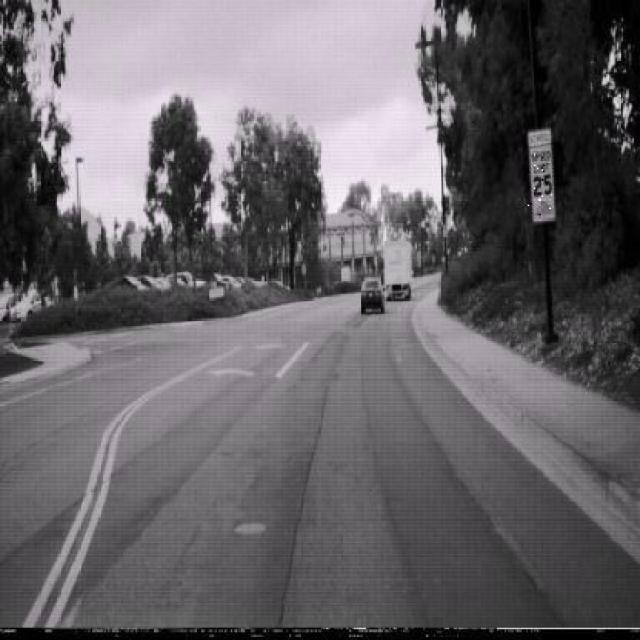schoolSpeedLimit25: (528, 128, 556, 223)
